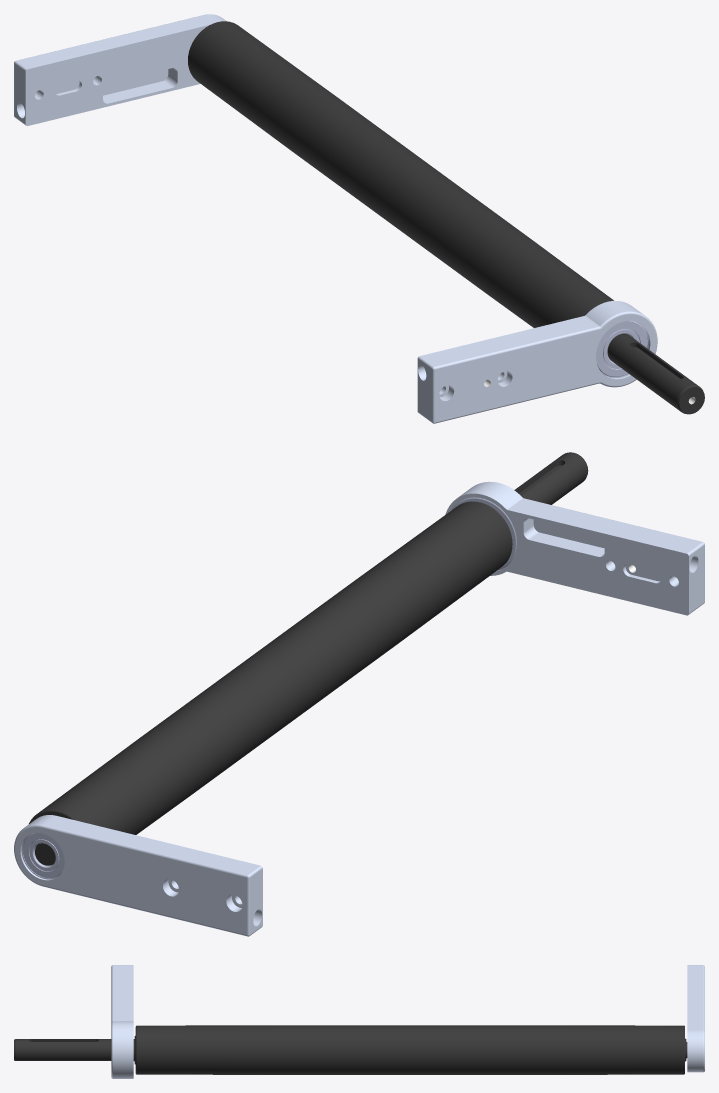
The model's file is direct-right.glb.
The picture shows the model from 3 angles, top to bottom: view 1: azimuth 30°, elevation 25°; view 2: azimuth 150°, elevation 25°; view 3: azimuth 270°, elevation 25°; orthographic projection. The views are drawn at different scales.
Parts seen in each view (by area): view 1: GF40_Antriebswelle_direkt-2, GF40_Direktantriebsplatte-1, GF40_Umlenkplatte-1, Pendelkugellager_gr-1; view 2: GF40_Antriebswelle_direkt-2, GF40_Umlenkplatte-1, GF40_Direktantriebsplatte-1, Pendelkugellager_kl-1; view 3: GF40_Antriebswelle_direkt-2, GF40_Direktantriebsplatte-1, GF40_Umlenkplatte-1.
Boxes of the visible parts, x1,y1,x2,y2 form: GF40_Antriebswelle_direkt-2: [188, 21, 704, 414]; GF40_Direktantriebsplatte-1: [417, 300, 657, 423]; GF40_Umlenkplatte-1: [14, 14, 226, 125]; Pendelkugellager_gr-1: [596, 321, 648, 377]; GF40_Antriebswelle_direkt-2: [29, 452, 588, 865]; GF40_Umlenkplatte-1: [14, 815, 262, 936]; GF40_Direktantriebsplatte-1: [445, 481, 704, 615]; Pendelkugellager_kl-1: [21, 833, 64, 879]; GF40_Antriebswelle_direkt-2: [14, 1025, 687, 1074]; GF40_Direktantriebsplatte-1: [111, 965, 133, 1078]; GF40_Umlenkplatte-1: [687, 965, 704, 1072].
Size of the model in its own units: 0.166 by 0.052 by 0.624.
